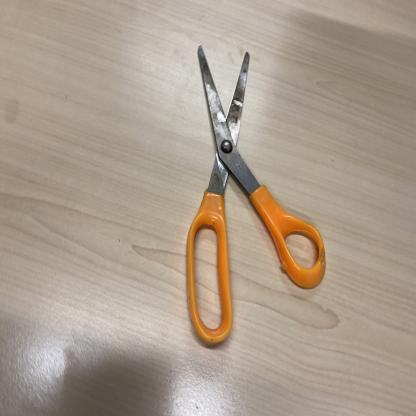scissors: (184, 45, 328, 348)
